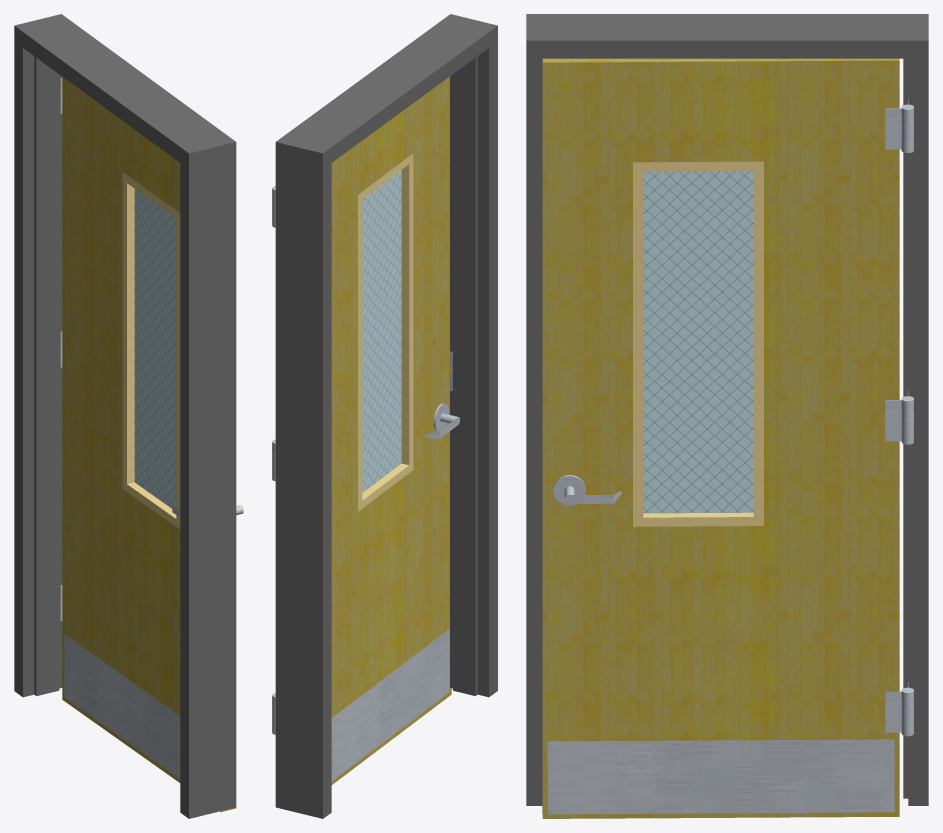
File: door2.gltf
3 views of the same model, side by side, from view 1: azimuth 30°, elevation 25°; view 2: azimuth 150°, elevation 25°; view 3: azimuth 270°, elevation 25° (orthographic). The views are drawn at different scales.
Visible parts, largest first — view 1: doorway, standard door; view 2: doorway, standard door; view 3: standard door, doorway, hinge.001, hinge, hinge.002.
Boxes of the visible parts, left/top/right/bottom form: doorway: left=14, top=14, right=236, bottom=818; standard door: left=62, top=77, right=243, bottom=812; doorway: left=275, top=14, right=497, bottom=818; standard door: left=331, top=76, right=459, bottom=784; standard door: left=542, top=58, right=899, bottom=818; doorway: left=526, top=14, right=928, bottom=805; hinge.001: left=885, top=390, right=913, bottom=444; hinge: left=885, top=99, right=913, bottom=152; hinge.002: left=885, top=682, right=913, bottom=736.
Size of the model in its own units: 0.2399 by 2.16 by 1.02.
Materials: 6 (4 with a texture image).
